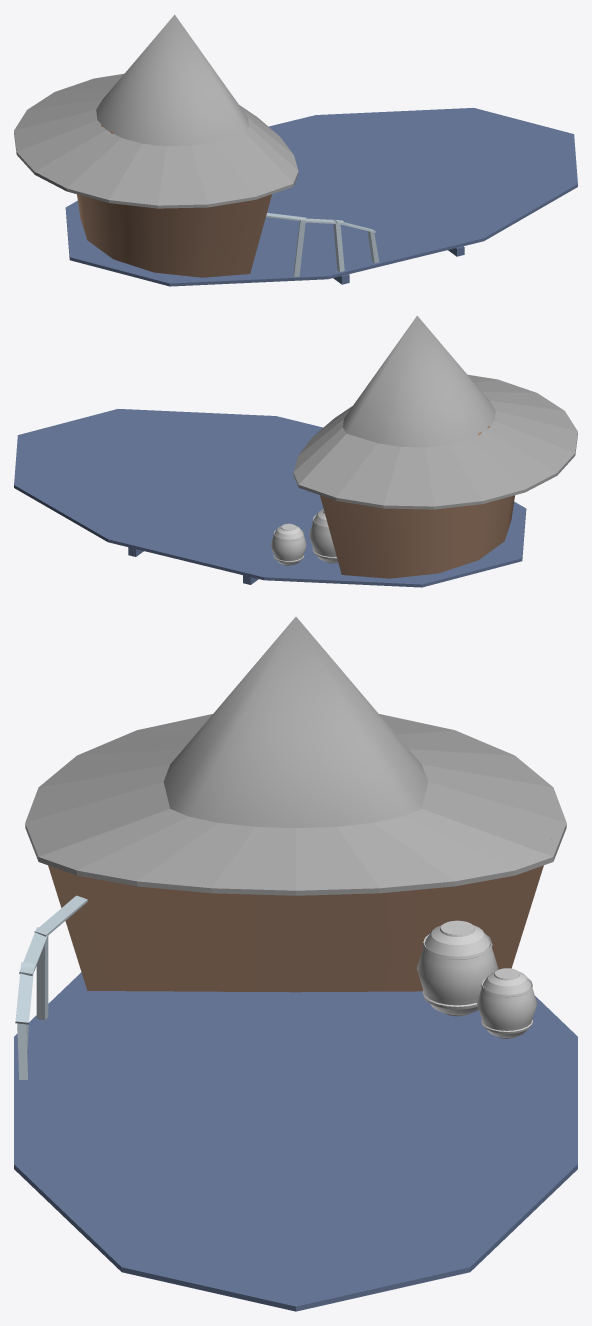
The picture shows the model from 3 angles, top to bottom: view 1: azimuth 30°, elevation 25°; view 2: azimuth 150°, elevation 25°; view 3: azimuth 270°, elevation 25°; orthographic projection. The views are drawn at different scales.
Visible parts, largest first — view 1: pCylinder1, pCone1, pCylinder2, pCube4, pasted__pCube4; view 2: pCylinder1, pCone1, pCylinder2, pasted__pCylinder4, pCylinder4; view 3: pCylinder1, pCone1, pCylinder2, pCylinder4, pasted__pCylinder4, pCube4.
Boxes of the visible parts, left/top/right/bottom form: pCylinder1: left=65, top=108, right=577, bottom=286; pCone1: left=14, top=14, right=298, bottom=208; pCylinder2: left=77, top=74, right=271, bottom=277; pCube4: left=293, top=221, right=305, bottom=276; pasted__pCube4: left=333, top=224, right=344, bottom=271; pCylinder1: left=14, top=409, right=526, bottom=587; pCone1: left=293, top=315, right=577, bottom=509; pCylinder2: left=318, top=375, right=514, bottom=578; pasted__pCylinder4: left=271, top=523, right=306, bottom=565; pCylinder4: left=309, top=509, right=338, bottom=563; pCylinder1: left=14, top=972, right=577, bottom=1311; pCone1: left=25, top=617, right=566, bottom=895; pCylinder2: left=48, top=838, right=551, bottom=992; pCylinder4: left=416, top=920, right=498, bottom=1016; pasted__pCylinder4: left=477, top=968, right=537, bottom=1038; pCube4: left=36, top=936, right=48, bottom=1020.
Size of the model in its own units: 41.03 by 17.21 by 22.18.
